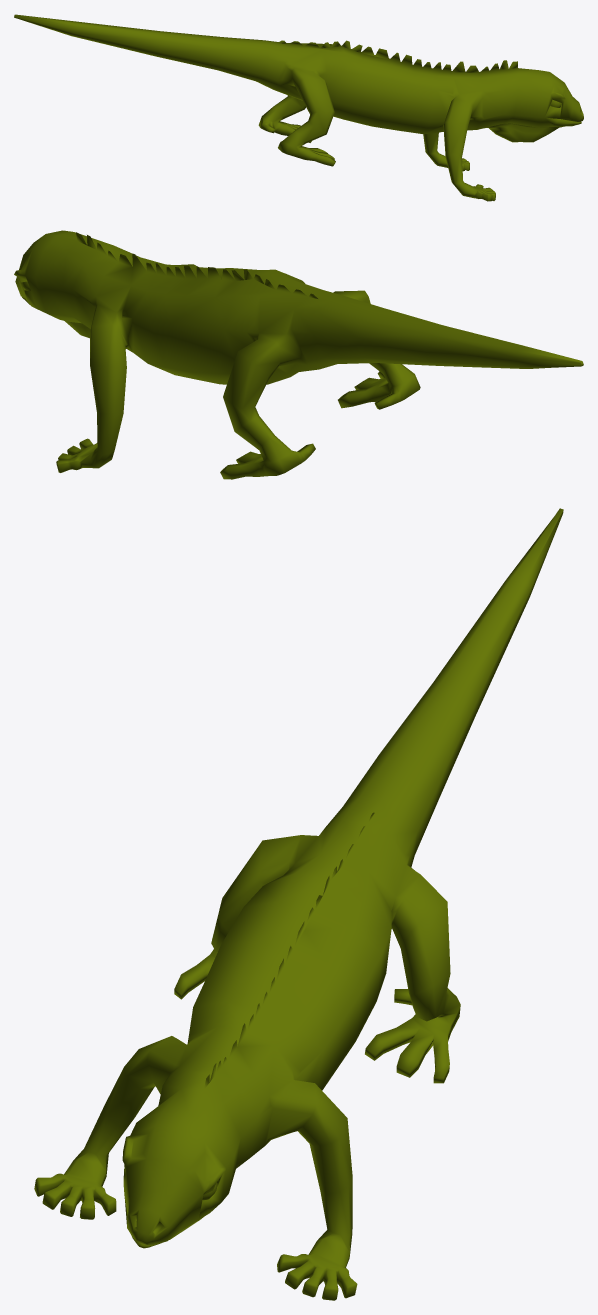
Rendered from SM_iguane (1).FBX.
3 views of the same model, one above another, from view 1: azimuth 30°, elevation 25°; view 2: azimuth 150°, elevation 25°; view 3: azimuth 270°, elevation 25° (orthographic). The views are drawn at different scales.
Parts seen in each view (by area): view 1: chris_iguana; view 2: chris_iguana; view 3: chris_iguana.
Boxes of the visible parts, box(x1,y1,x2,y2) form: chris_iguana: box(14, 14, 583, 201); chris_iguana: box(14, 230, 583, 479); chris_iguana: box(34, 508, 563, 1300).
Bounding box in the file's own units: 71.88 × 30.26 × 35.39.
